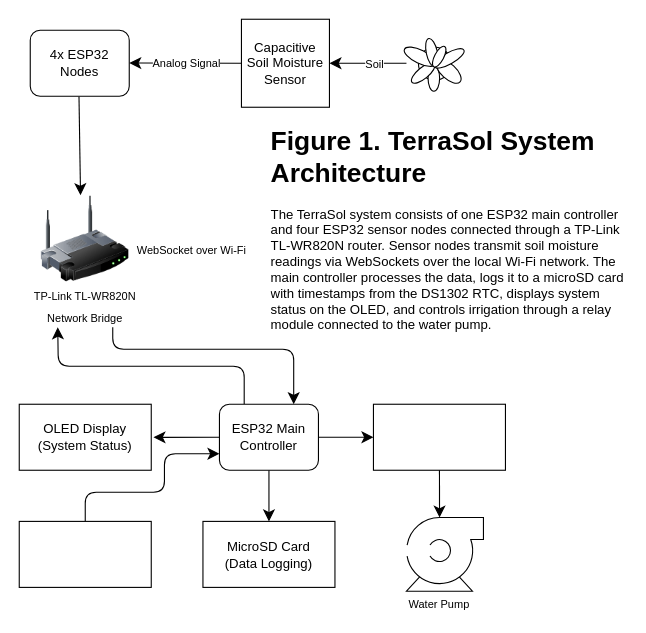
Image size: 646x633. Some labels were removed from this diagram. Here are the shapes that lost their labels. From the top down, the centre of each, then its label:
pixel 438 436: Relay Module
pixel 84 553: DS1302 RTC (Timekeeping)
